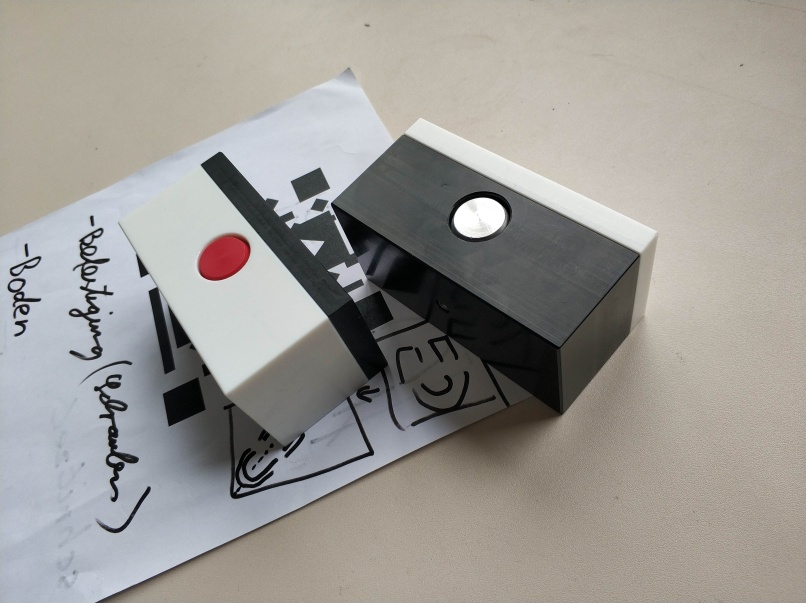black+white+red: (116, 150, 393, 450)
white+black+silver: (328, 114, 659, 414)
